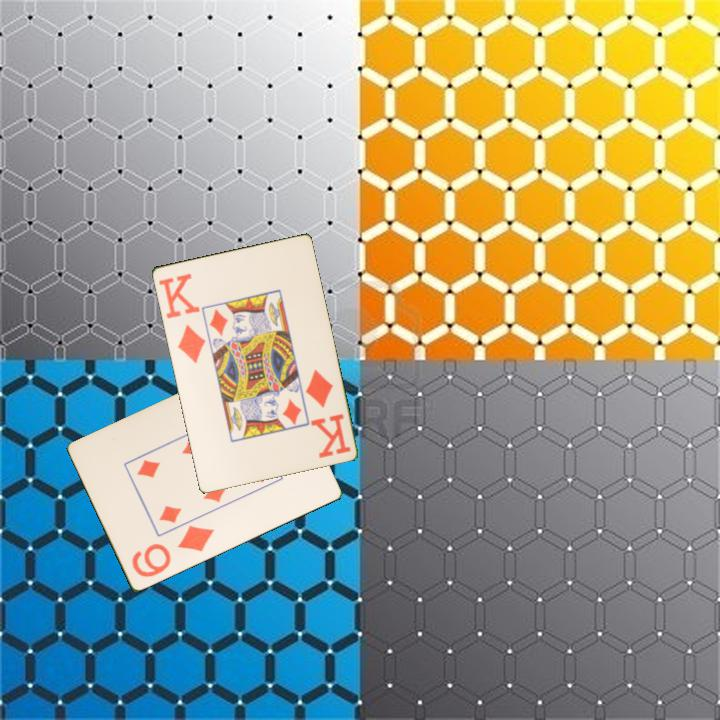6d: (128, 522, 217, 581)
Kd: (155, 269, 208, 366), (302, 365, 354, 460)
